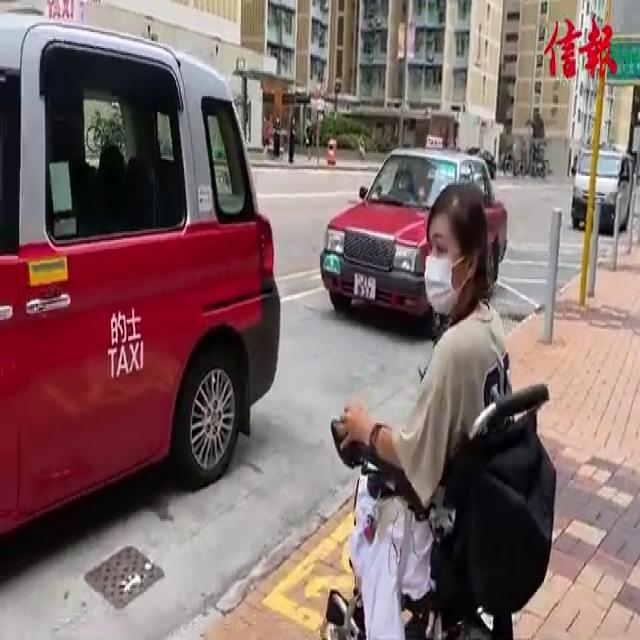wheelchairs: (318, 356, 566, 640)
